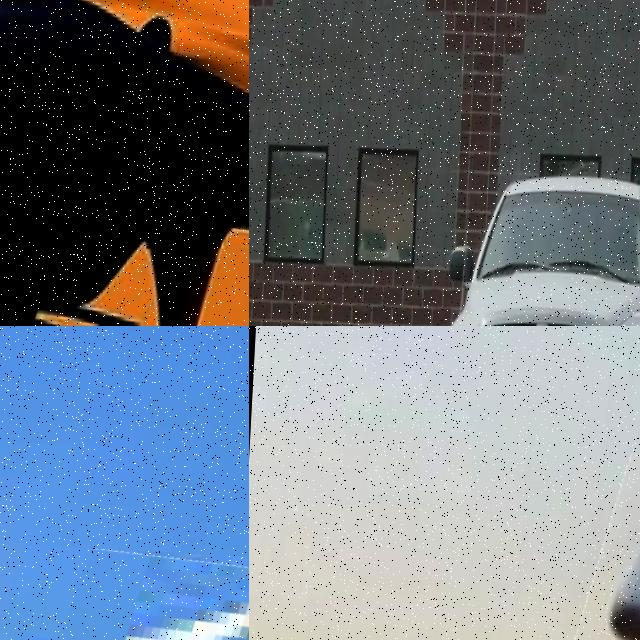drone: (0, 0, 249, 326), (0, 528, 249, 640)
